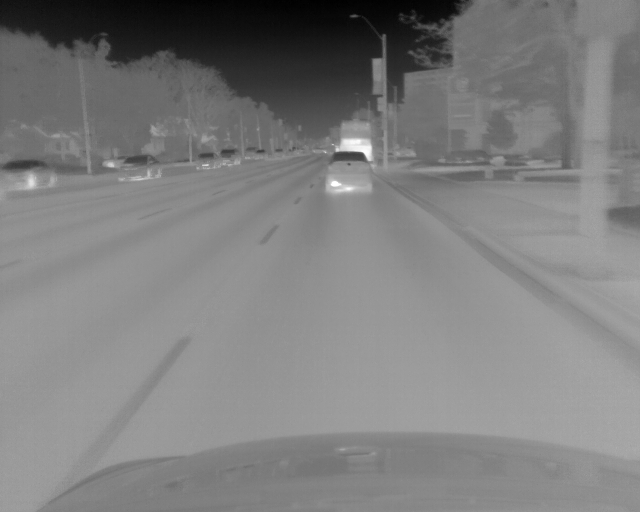car: (325, 152, 371, 195), (5, 160, 59, 191), (336, 119, 373, 160), (117, 155, 163, 182), (195, 152, 221, 171), (219, 149, 240, 167), (103, 157, 124, 169), (244, 146, 255, 160), (254, 149, 266, 161)
